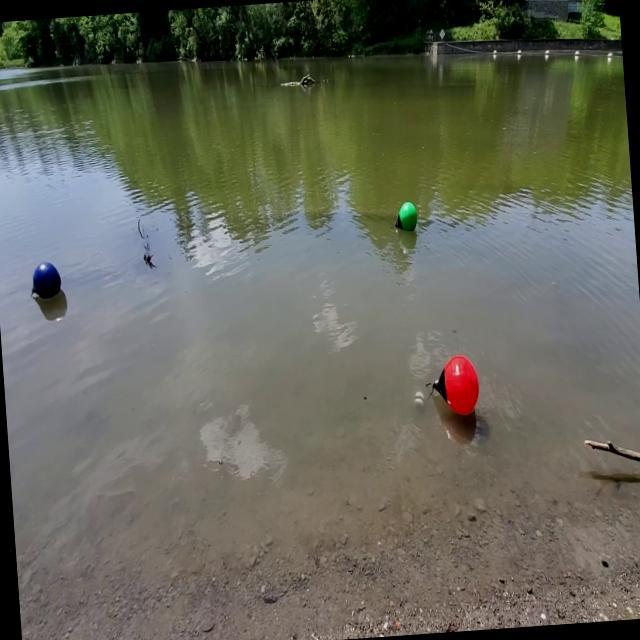buoy: (422, 342, 483, 422), (25, 256, 66, 306), (392, 194, 422, 238)
